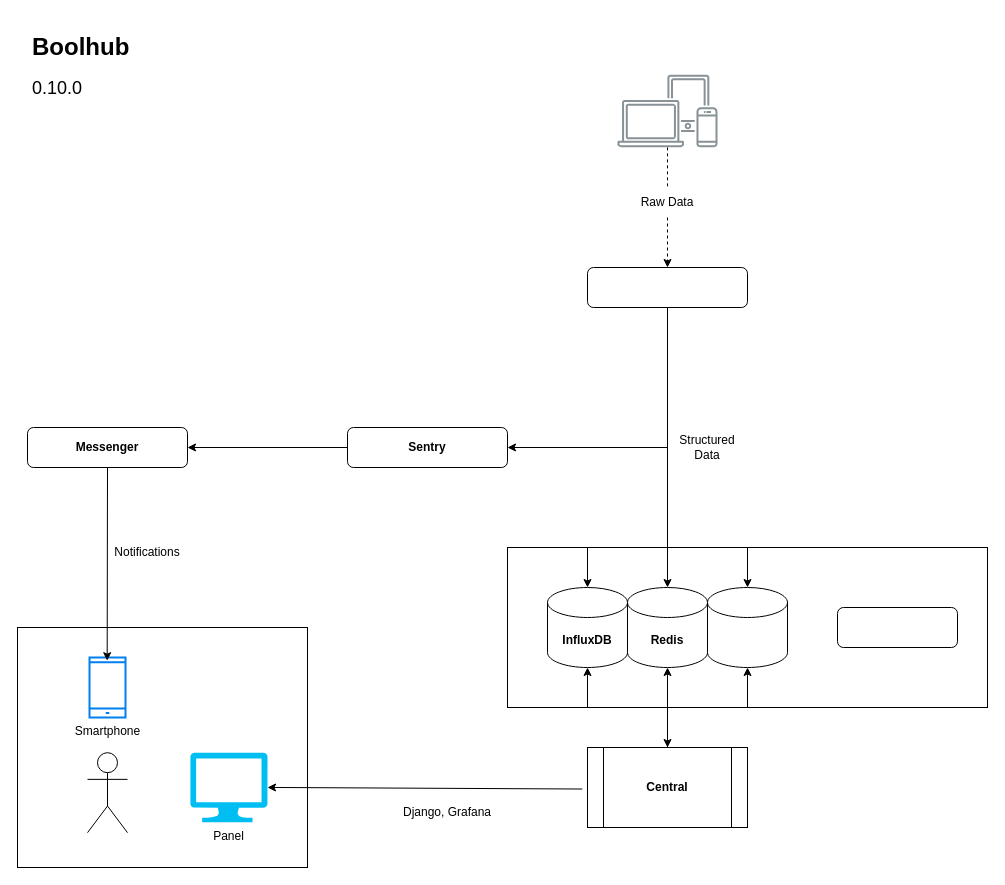
The diagram is 1005 pixels wide and 885 high, and some of its shapes have lost their labels. Here are the shapes that lost their labels. From the top down, the box of each, then its label:
(586, 266, 748, 308): Gatherer
(706, 586, 788, 668): PostgreSQL
(836, 606, 958, 648): Archivist
